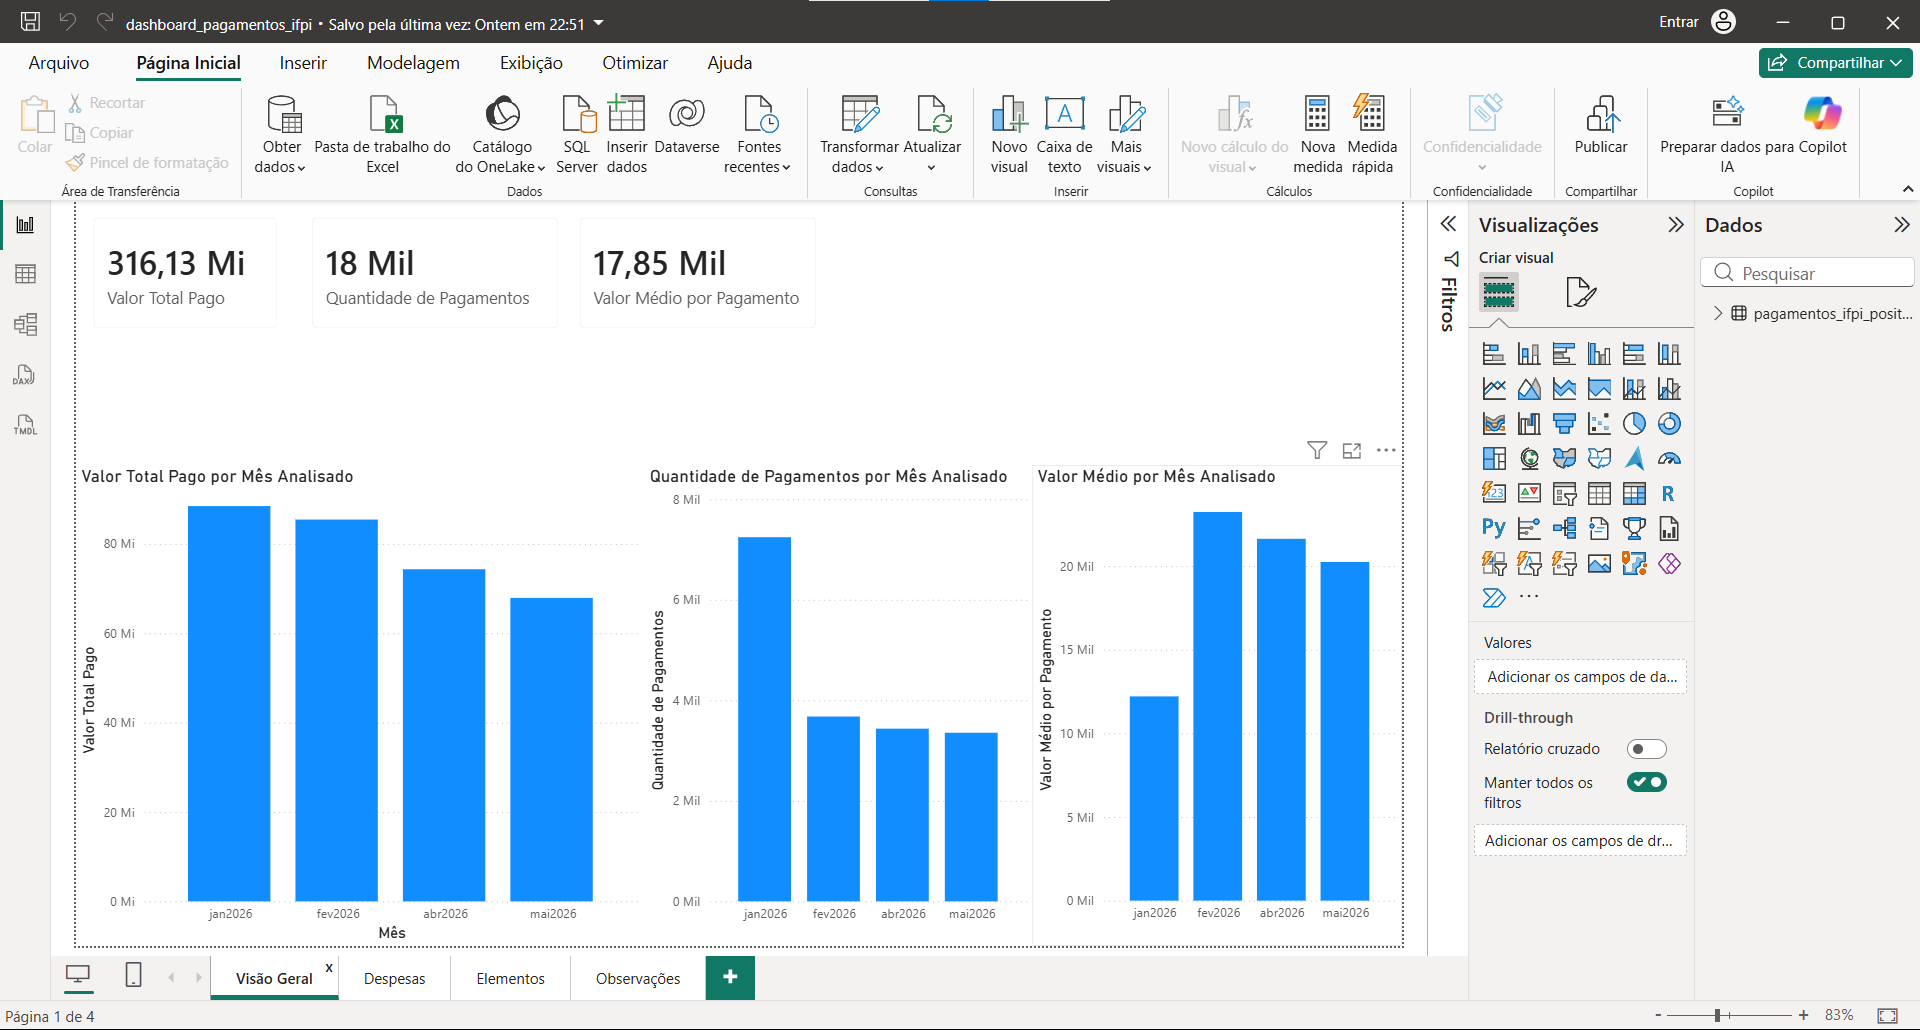

The dashboard page shown, as its layout file describes it:
{"tool":"powerbi","page":{"name":"Visão Geral","canvas":[1280,720],"ordinal":0},"visuals":[{"type":"cardVisual","title":"Valor Total Pago","fields":{"Data":["pagamentos_ifpi_positivos.Valor Total Pago"]},"box":[0,0,211.3,141.3],"z":0},{"type":"cardVisual","fields":{"Data":["pagamentos_ifpi_positivos.Quantidade de Pagamentos"]},"box":[211.3,0,271.7,141.3],"z":1000},{"type":"cardVisual","fields":{"Data":["pagamentos_ifpi_positivos.Valor Médio por Pagamento"]},"box":[469.3,0,262.1,141.3],"z":2000},{"type":"clusteredColumnChart","title":"Valor Total Pago por Mês Analisado","fields":{"Category":["pagamentos_ifpi_positivos.mes_arquivo"],"Y":["pagamentos_ifpi_positivos.Valor Total Pago"]},"box":[0,255.2,548.9,465.2],"z":3000},{"type":"columnChart","title":"Quantidade de Pagamentos por Mês Analisado","fields":{"Category":["pagamentos_ifpi_positivos.mes_arquivo"],"Y":["pagamentos_ifpi_positivos.Quantidade de Pagamentos"]},"box":[548.9,255.2,374.6,465.2],"z":4000},{"type":"columnChart","title":"Valor Médio por Mês Analisado","fields":{"Category":["pagamentos_ifpi_positivos.mes_arquivo"],"Y":["pagamentos_ifpi_positivos.Valor Médio por Pagamento"]},"box":[922.9,255.8,357.1,464.5],"z":5000}]}

Visuals, with their boxes on the page's 1280x720 design canvas (x1, y1, x2, y2). These are canvas units, not pixel positions in the 1920x1030 screenshot, which may show the page scaled, cropped or inside an application window:
"Valor Total Pago" cardVisual: pyautogui.locateOnScreen(0, 0, 211, 141)
cardVisual - pagamentos_ifpi_positivos.Quantidade de Pagamentos: pyautogui.locateOnScreen(211, 0, 483, 141)
cardVisual - pagamentos_ifpi_positivos.Valor Médio por Pagamento: pyautogui.locateOnScreen(469, 0, 731, 141)
"Valor Total Pago por Mês Analisado" clusteredColumnChart: pyautogui.locateOnScreen(0, 255, 549, 720)
"Quantidade de Pagamentos por Mês Analisado" columnChart: pyautogui.locateOnScreen(549, 255, 924, 720)
"Valor Médio por Mês Analisado" columnChart: pyautogui.locateOnScreen(923, 256, 1280, 720)
